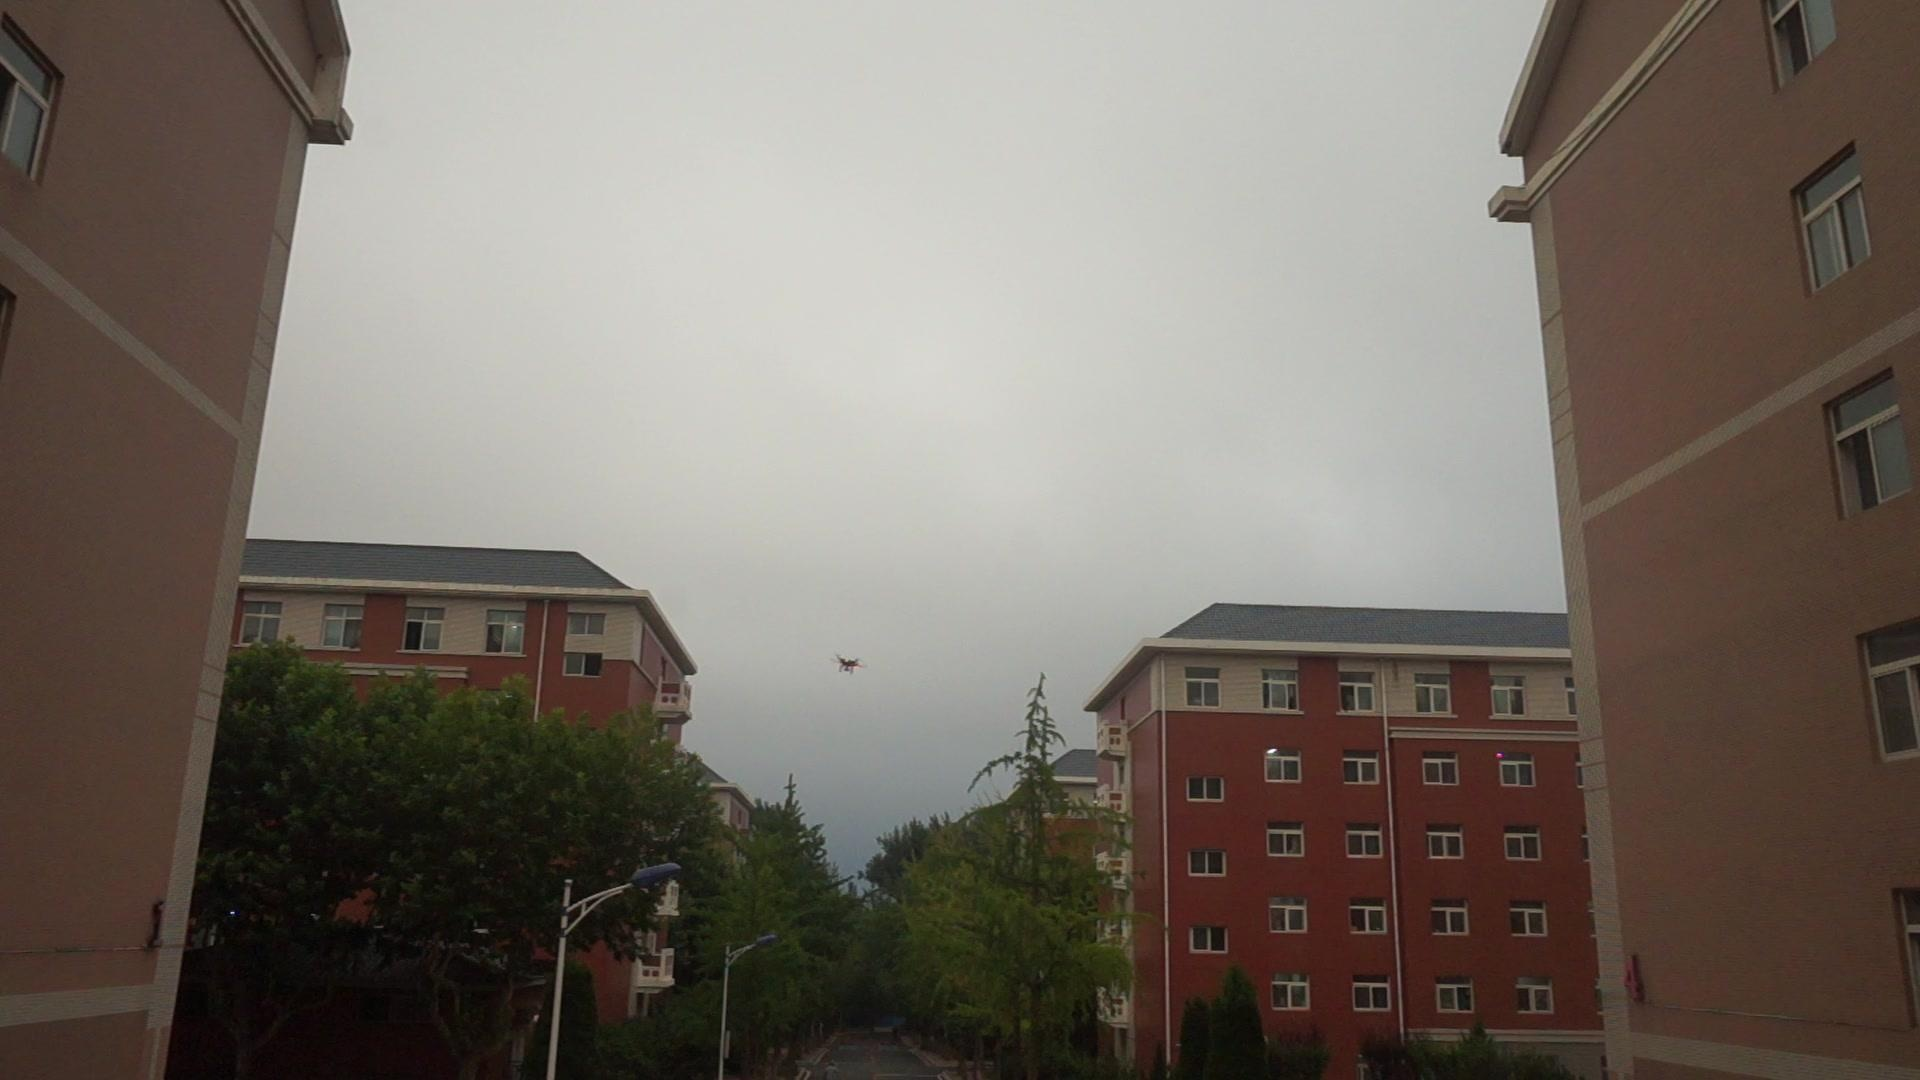UAV: (833, 655, 864, 675)
